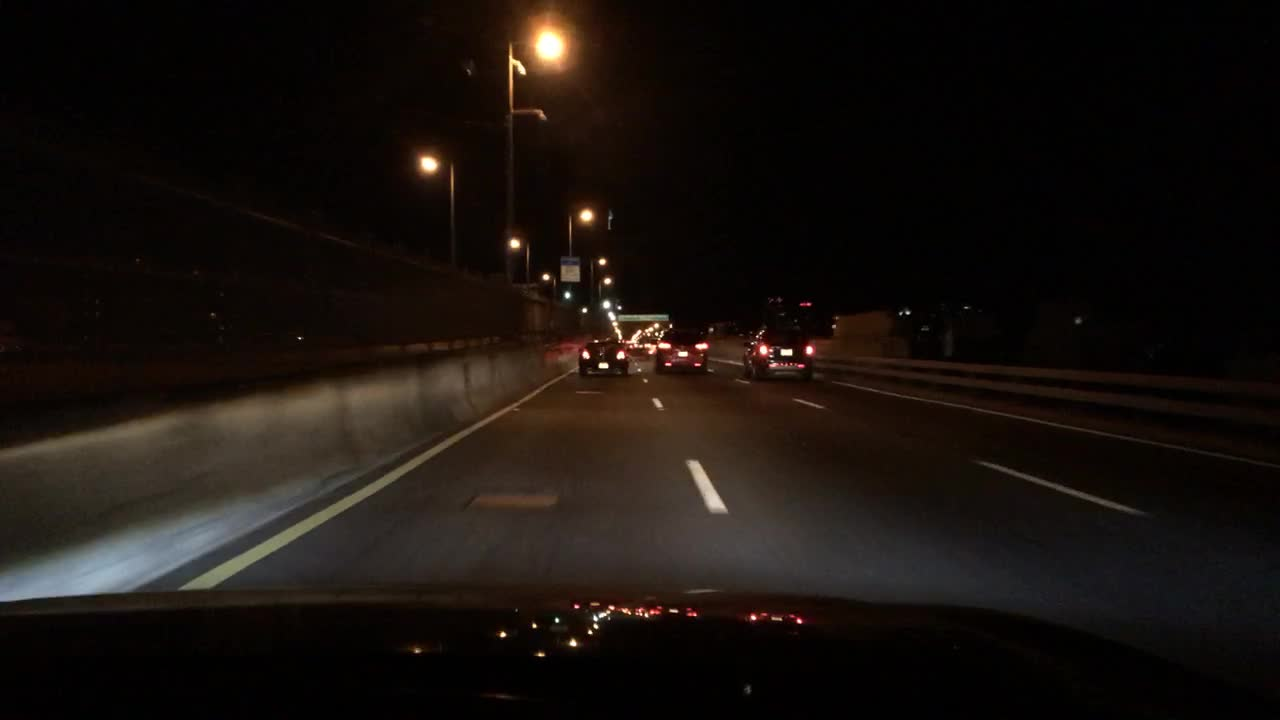car: (739, 322, 819, 385), (651, 321, 711, 376), (576, 334, 632, 380), (644, 337, 660, 357), (627, 339, 645, 355)
traffic light: (797, 299, 814, 308)
traffic sign: (616, 312, 671, 324), (559, 254, 578, 282)
